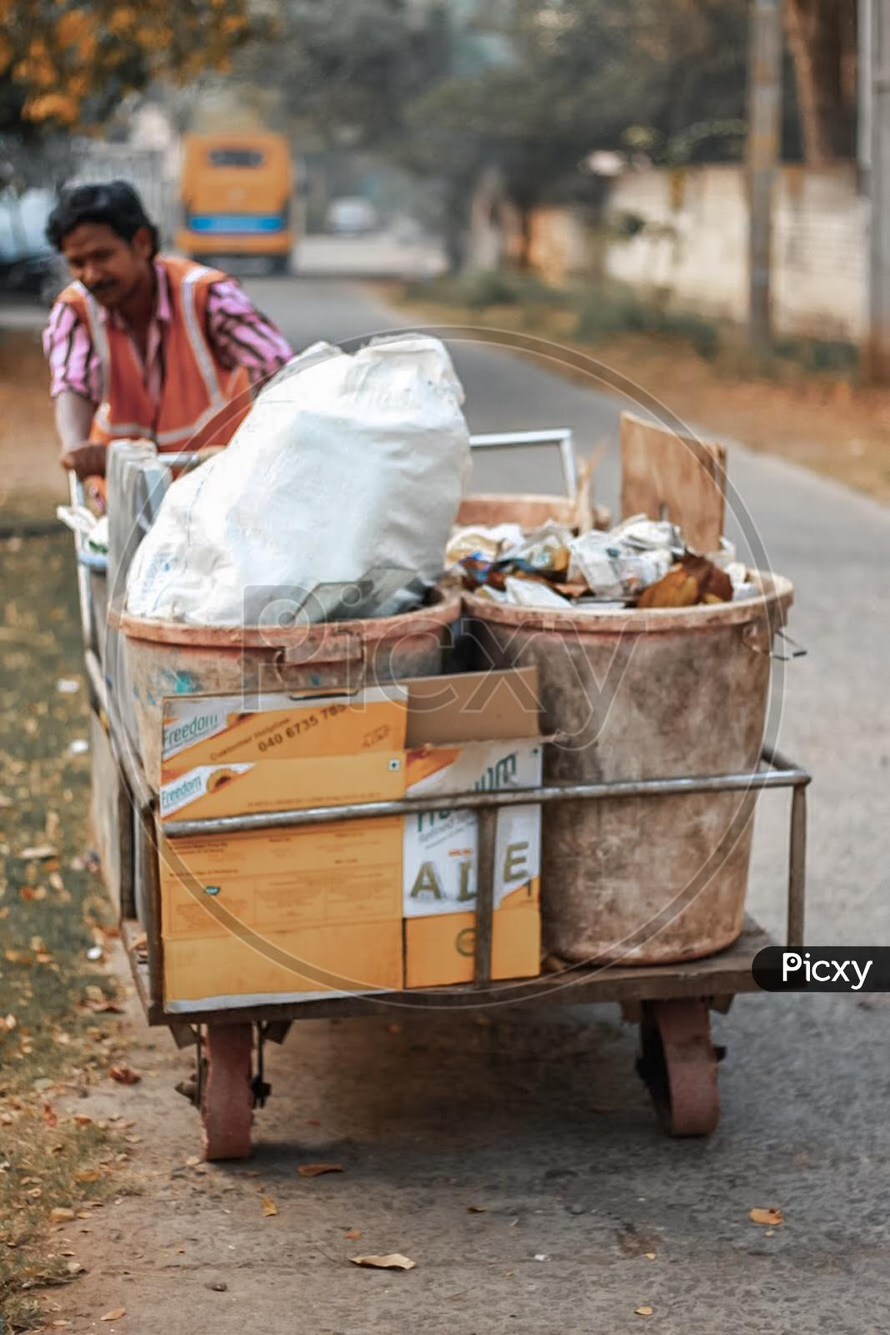road: (40, 993, 889, 1335), (730, 446, 889, 944), (451, 344, 626, 507)
trash: (125, 336, 472, 626), (571, 514, 686, 596)
